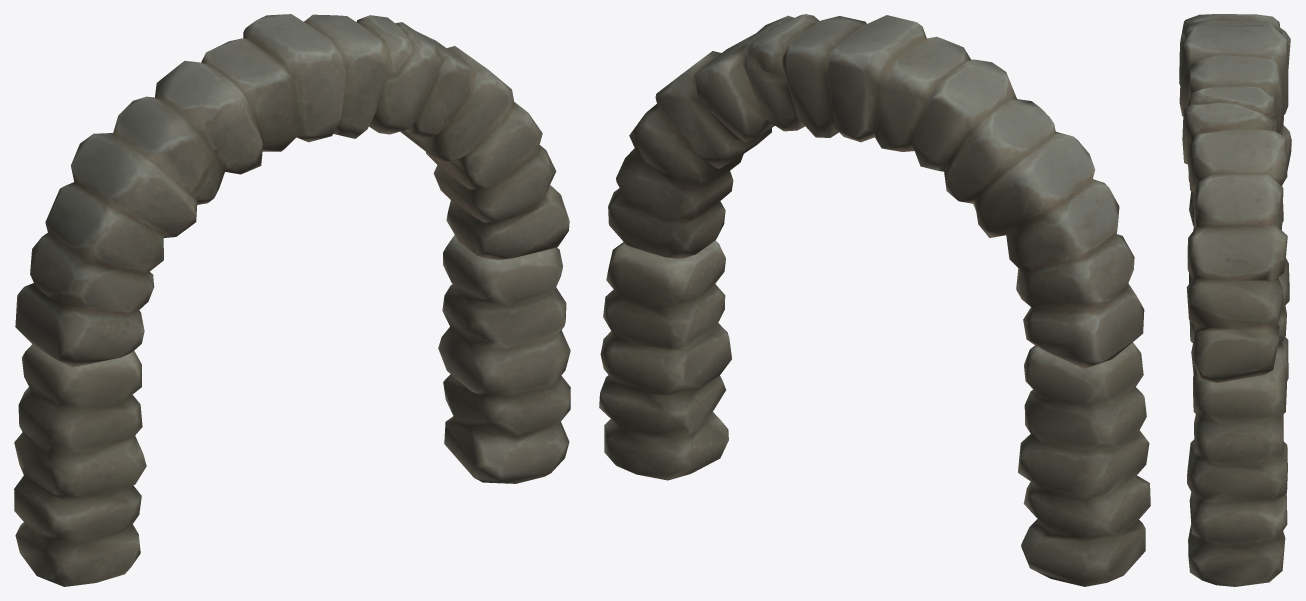
File: SM_FW01_Ruins_Decor_Arch_03.fbx
3 views of the same model, side by side, from view 1: azimuth 30°, elevation 25°; view 2: azimuth 150°, elevation 25°; view 3: azimuth 270°, elevation 25° (orthographic). The views are drawn at different scales.
Visible parts, largest first — view 1: SM_FW01_Ruins_Decor_Arch_03_LOD0; view 2: SM_FW01_Ruins_Decor_Arch_03_LOD0; view 3: SM_FW01_Ruins_Decor_Arch_03_LOD0.
Boxes of the visible parts, x1,y1,x2,y2 form: SM_FW01_Ruins_Decor_Arch_03_LOD0: (14,14,570,586); SM_FW01_Ruins_Decor_Arch_03_LOD0: (599,14,1150,586); SM_FW01_Ruins_Decor_Arch_03_LOD0: (1179,14,1291,586).
Size of what is drawn, in the model's own units: 2.95 by 2.64 by 0.6086.
